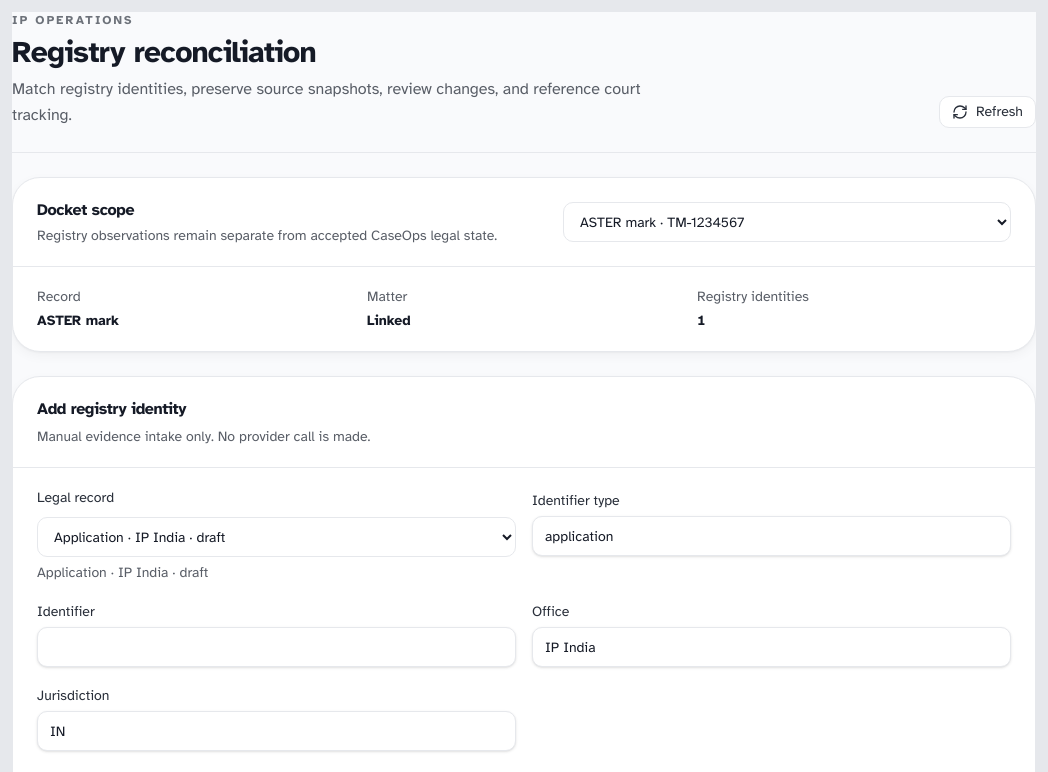
Test: IP registry reconciliation page › keeps canonical application/proceeding prefixes and current captions without changing labels
The image size is (1048, 772).
Select "Proceeding · opposition · draft" in the dropdown labelled "Legal record" at (276, 537), box [37, 517, 516, 557]
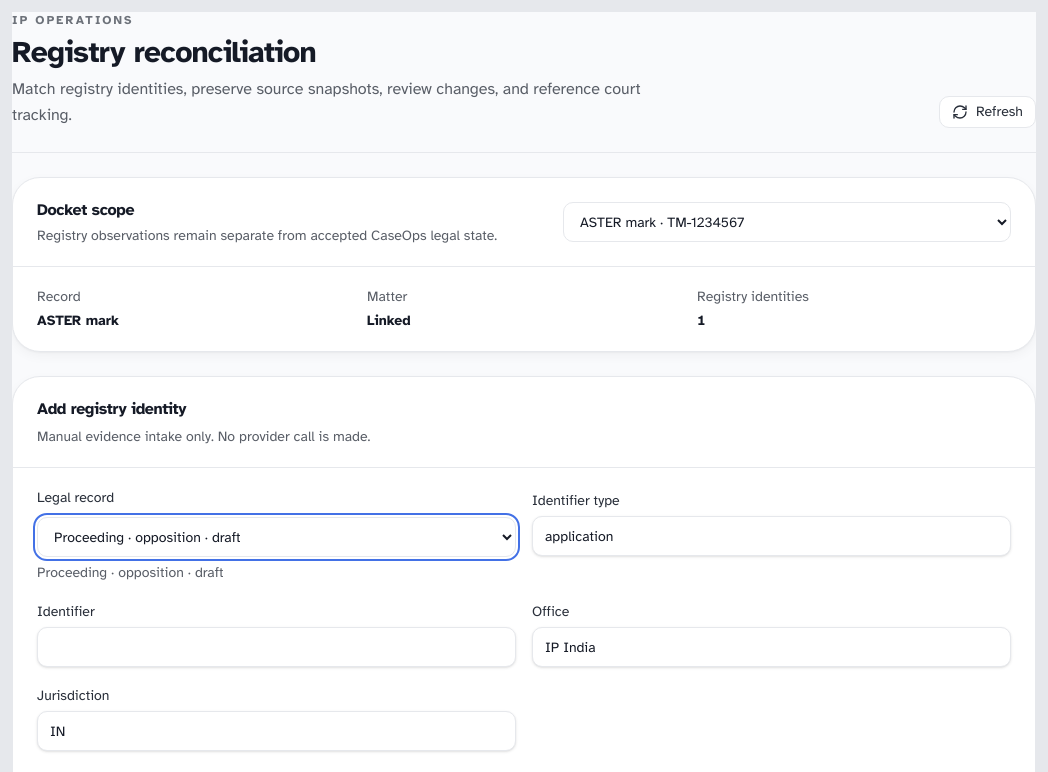
Expected: the text "Proceeding · opposition · draft" is shown, [37, 564, 224, 581]
